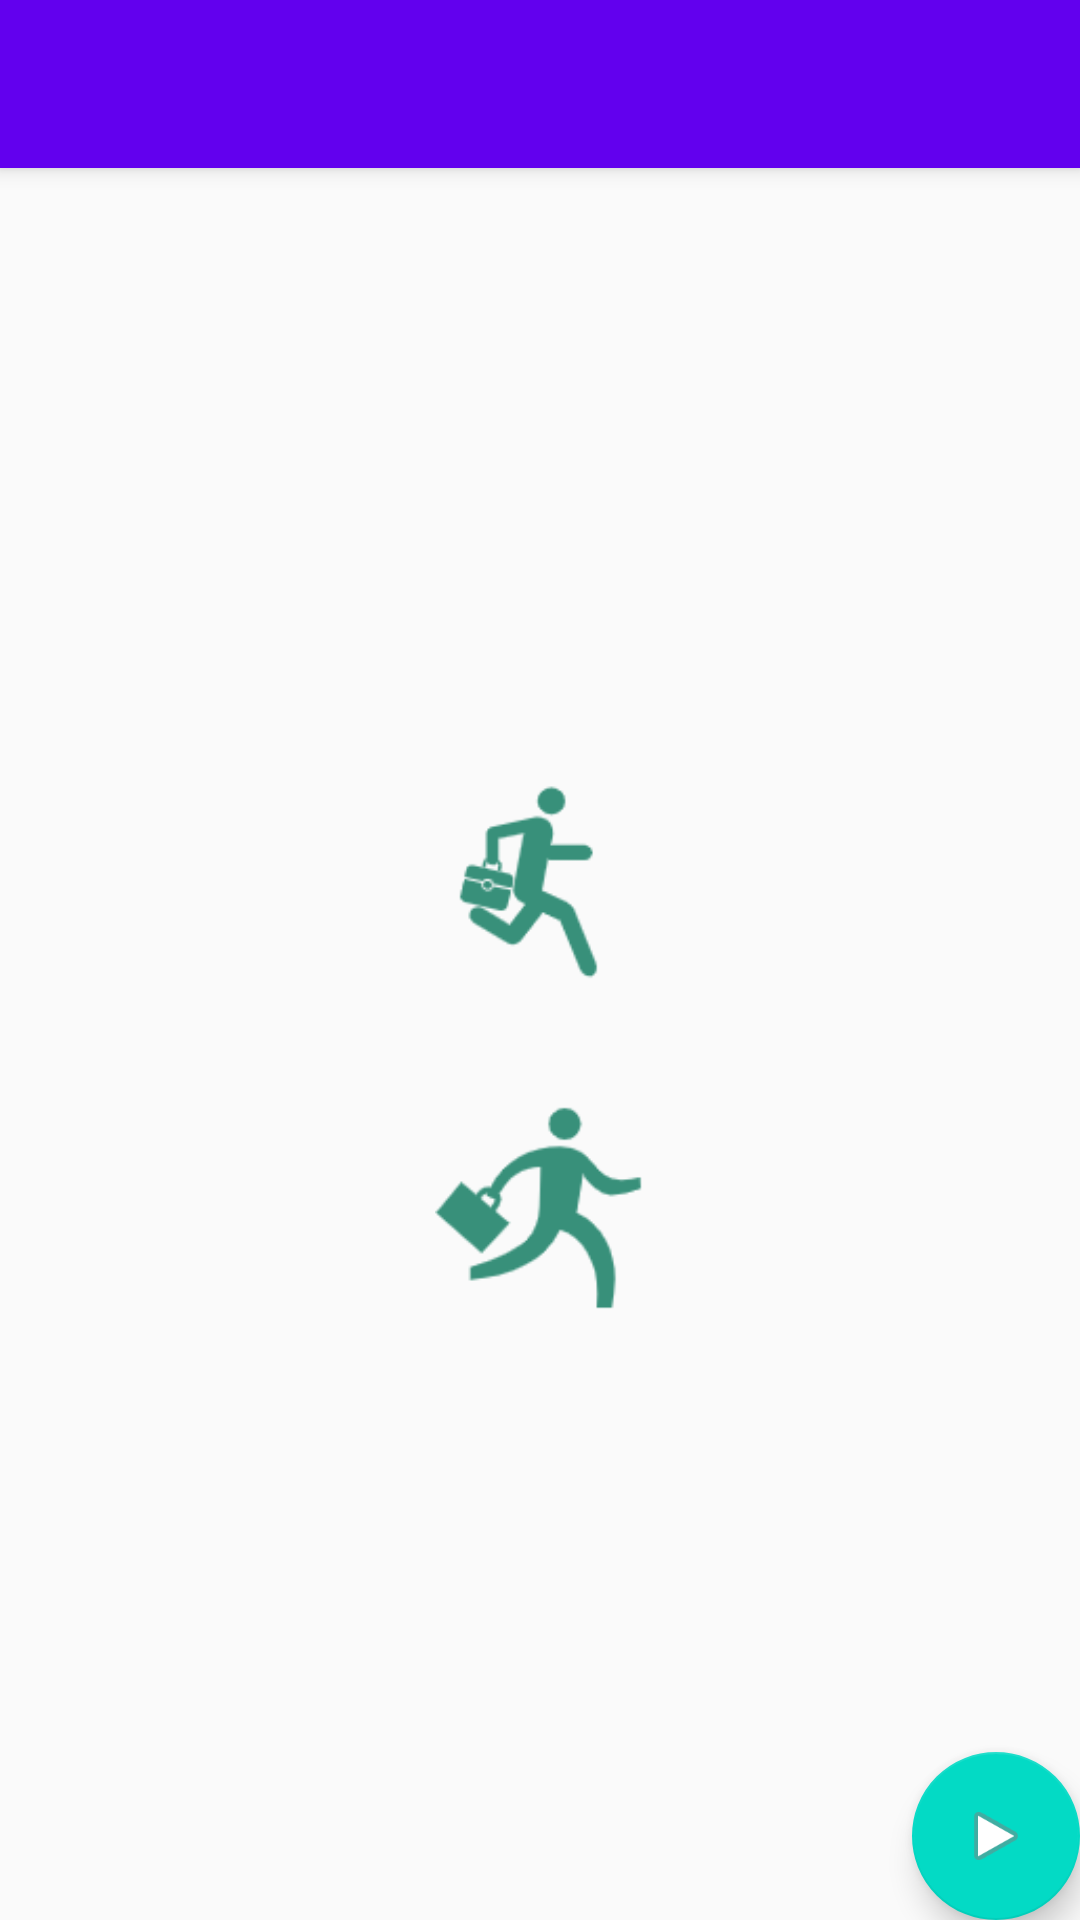

Icons on this 1080x1920 Android screen, each with its box as (x1, y1, x2, y2):
go to work: (459, 786, 597, 978)
off work: (435, 1107, 642, 1308)
play: (912, 1752, 1080, 1920)
